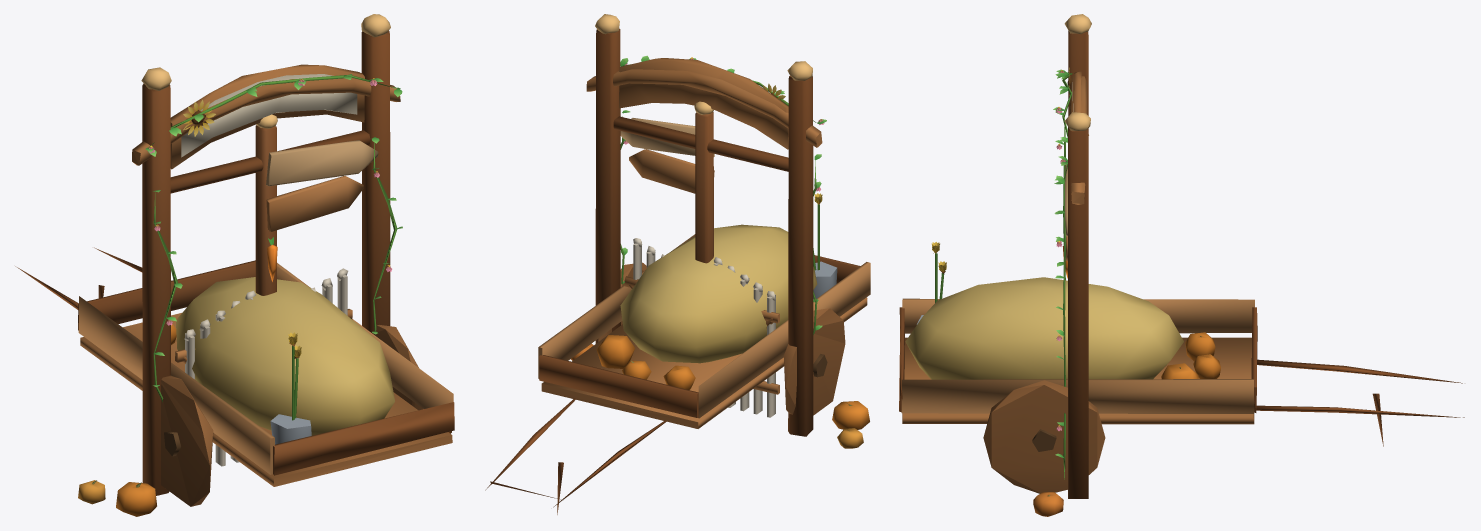
File: plaza_gate.glb
3 views of the same model, side by side, from view 1: azimuth 30°, elevation 25°; view 2: azimuth 150°, elevation 25°; view 3: azimuth 270°, elevation 25° (orthographic). The views are drawn at different scales.
Parts seen in each view (by area): view 1: plaza_cart, plaza_gate, signpost, plaza_gate_leaf_r, plaza_gate_leaf_l; view 2: plaza_cart, plaza_gate, signpost, plaza_gate_leaf_r, plaza_gate_leaf_l; view 3: plaza_cart, plaza_gate.
Boxes of the visible parts, bbox=[...] form: plaza_cart: bbox=[15, 247, 454, 506]; plaza_gate: bbox=[78, 14, 451, 516]; signpost: bbox=[255, 114, 378, 295]; plaza_gate_leaf_r: bbox=[175, 290, 255, 466]; plaza_gate_leaf_l: bbox=[311, 268, 352, 319]; plaza_cart: bbox=[485, 193, 870, 514]; plaza_gate: bbox=[571, 14, 869, 448]; signpost: bbox=[620, 101, 714, 263]; plaza_gate_leaf_r: bbox=[713, 257, 779, 417]; plaza_gate_leaf_l: bbox=[624, 238, 664, 288]; plaza_cart: bbox=[899, 242, 1464, 493]; plaza_gate: bbox=[1033, 14, 1091, 516].
Bounding box in the file's own units: 2.7 × 3.13 × 4.19.
